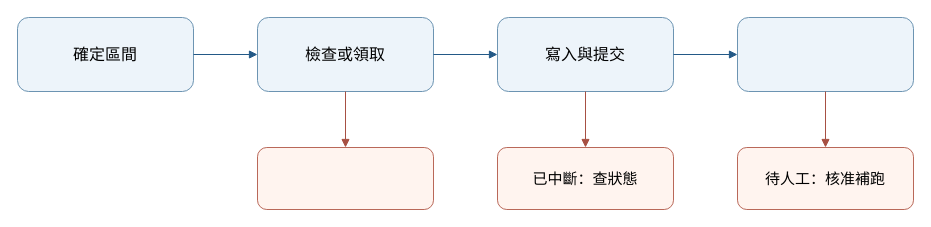
This 931x227 diagram has some shape labels left out. Each missing label, with the box of its shape:
對帳與重跑: (736, 16, 914, 92)
已成功：略過: (256, 146, 434, 210)
